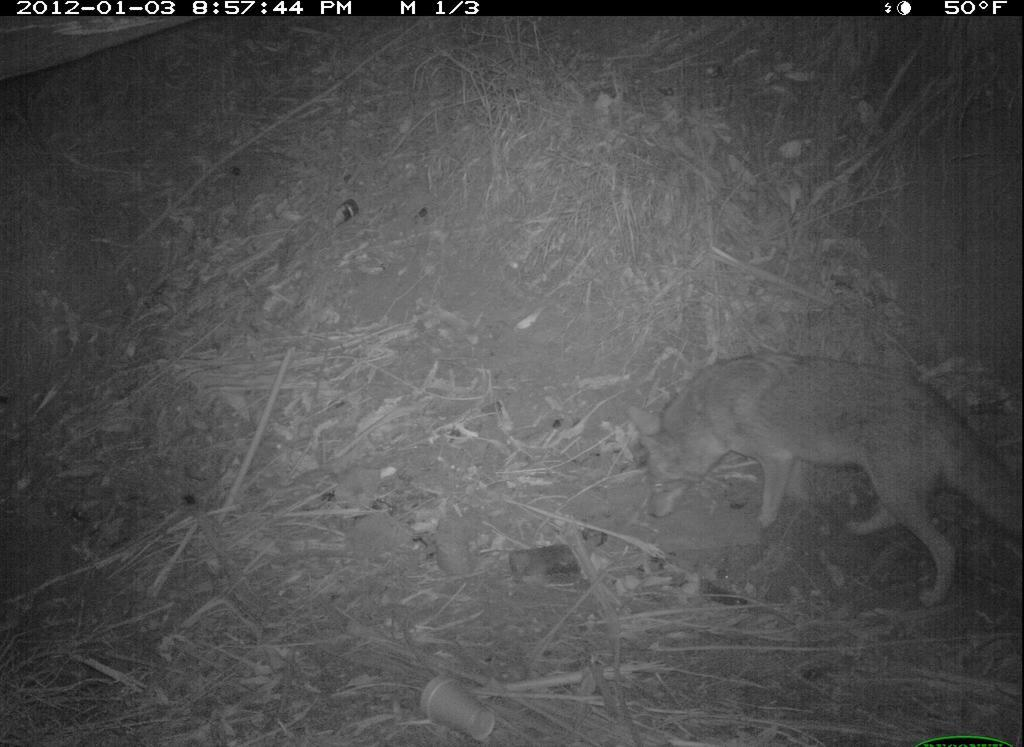coyote: (593, 324, 1021, 607)
